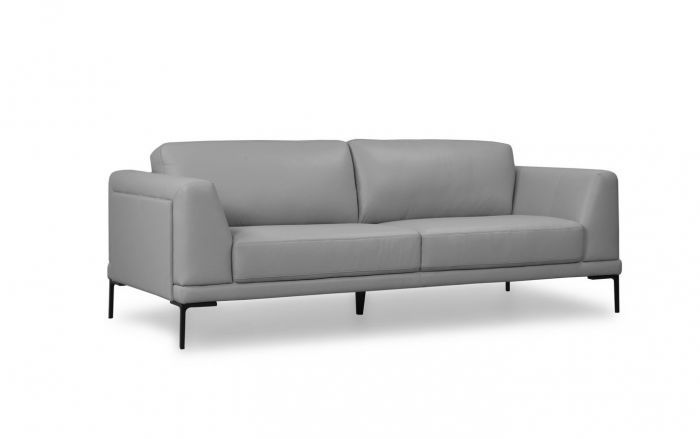chairs: (108, 140, 632, 350)
